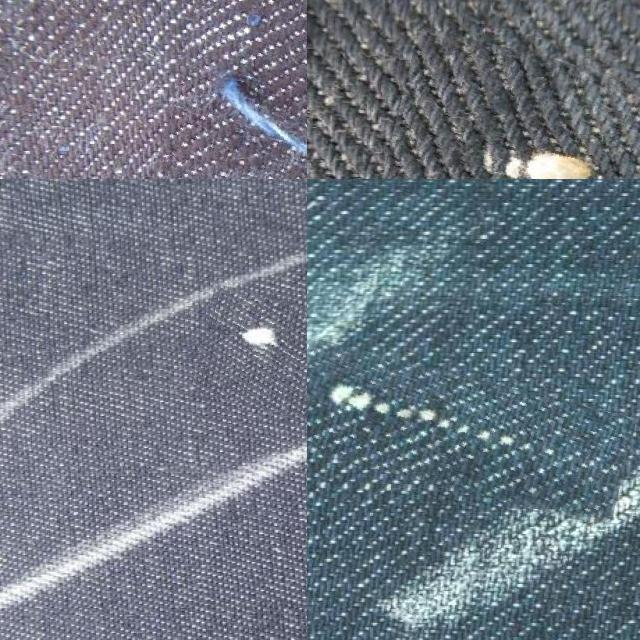Thread_other: (307, 356, 633, 506), (374, 39, 640, 179), (158, 0, 307, 179), (194, 290, 307, 417)
